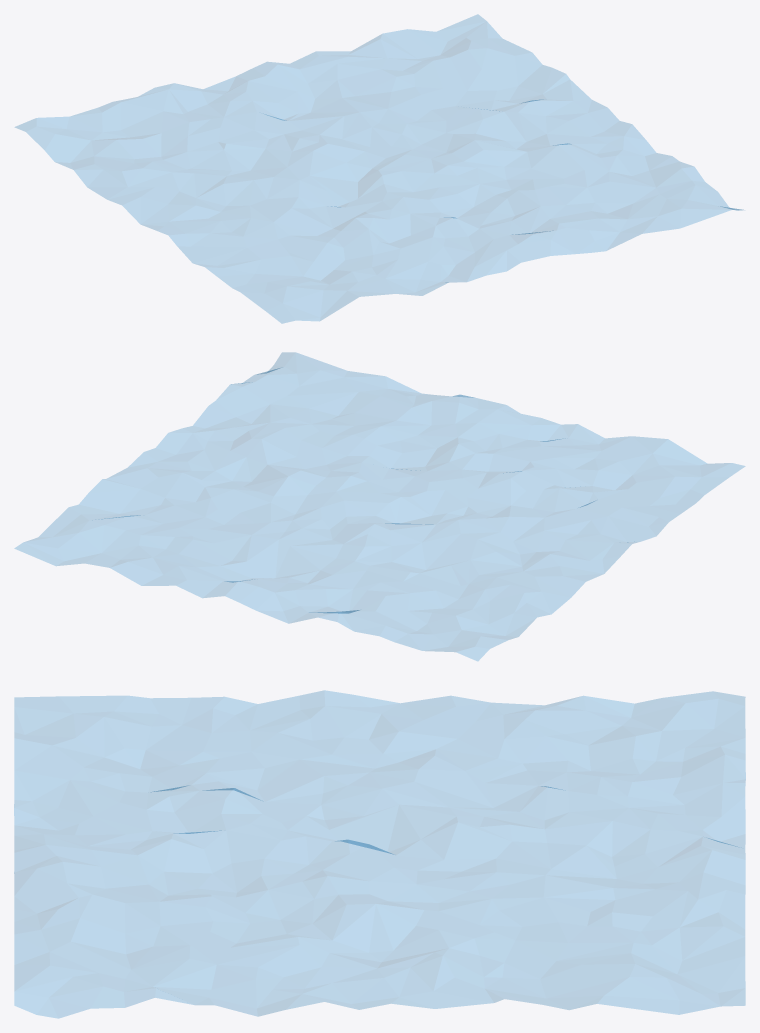
Rendered from Water.fbx.
The picture shows the model from 3 angles, top to bottom: view 1: azimuth 30°, elevation 25°; view 2: azimuth 150°, elevation 25°; view 3: azimuth 270°, elevation 25°; orthographic projection. The views are drawn at different scales.
Parts seen in each view (by area): view 1: Plane; view 2: Plane; view 3: Plane.
Part boxes in pixels (bbox=[...]): Plane: bbox=[15, 14, 743, 323]; Plane: bbox=[14, 352, 744, 660]; Plane: bbox=[14, 690, 745, 1018].
Bounding box in the file's own units: 1629 × 73.98 × 1630.
